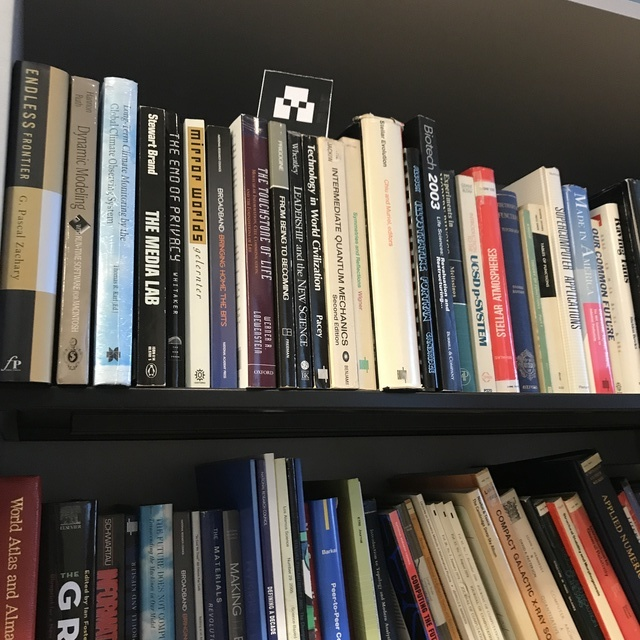ARTag: (254, 70, 334, 144)
